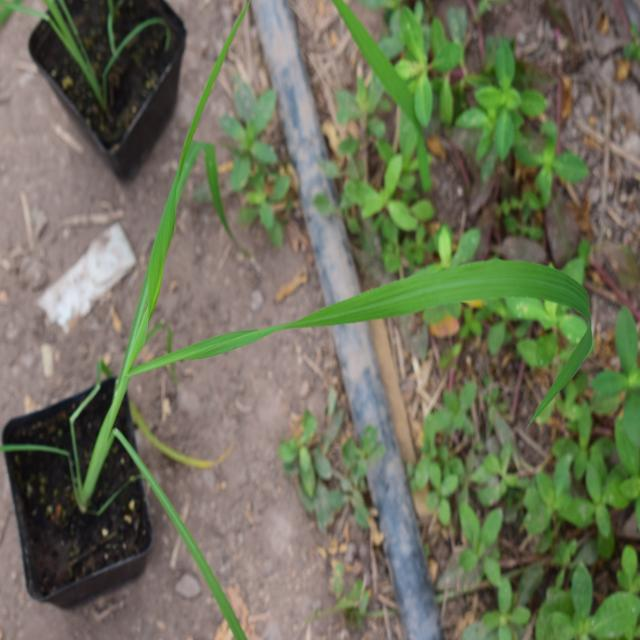barnyard_grass: (106, 92, 569, 467)
